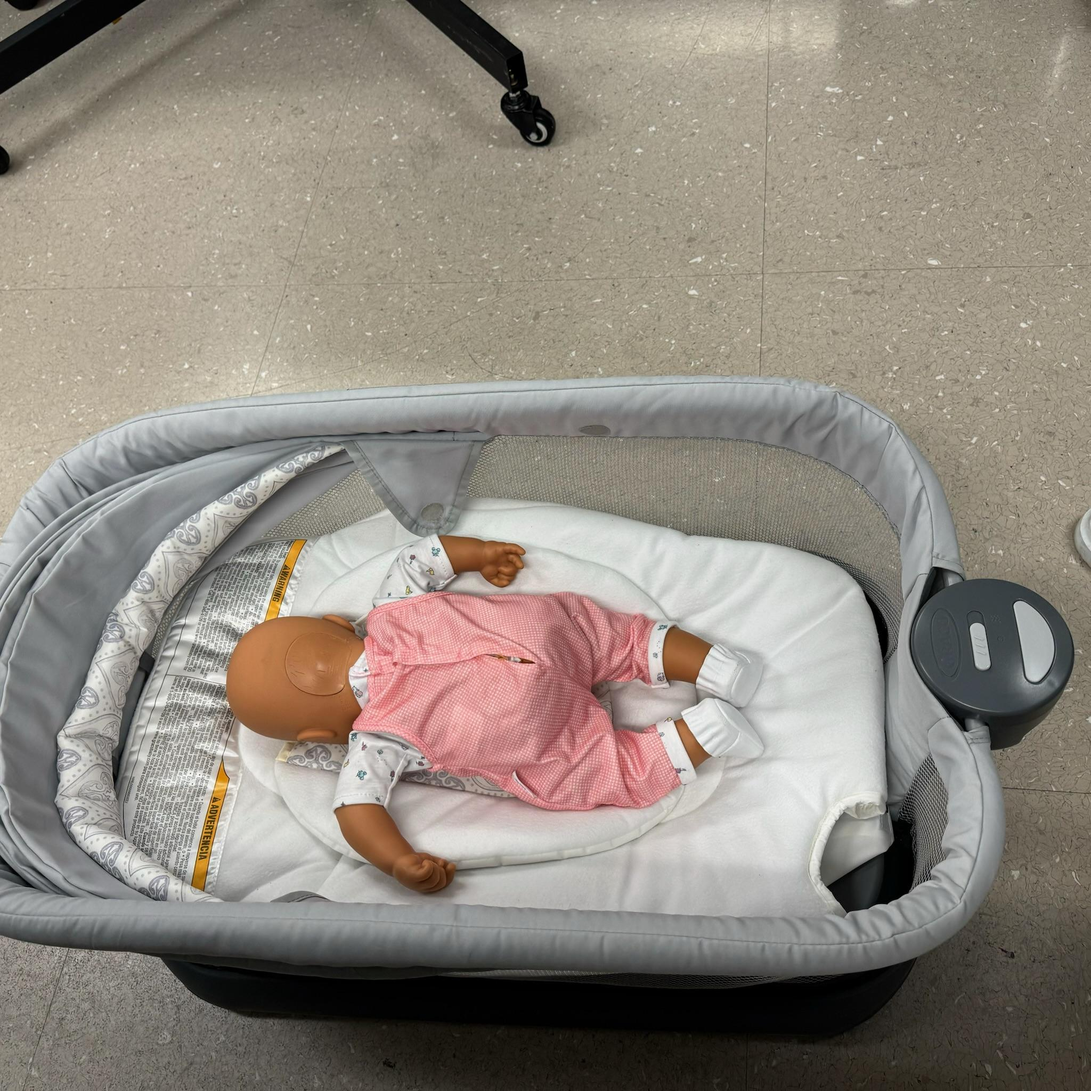baby: (222, 526, 772, 885)
